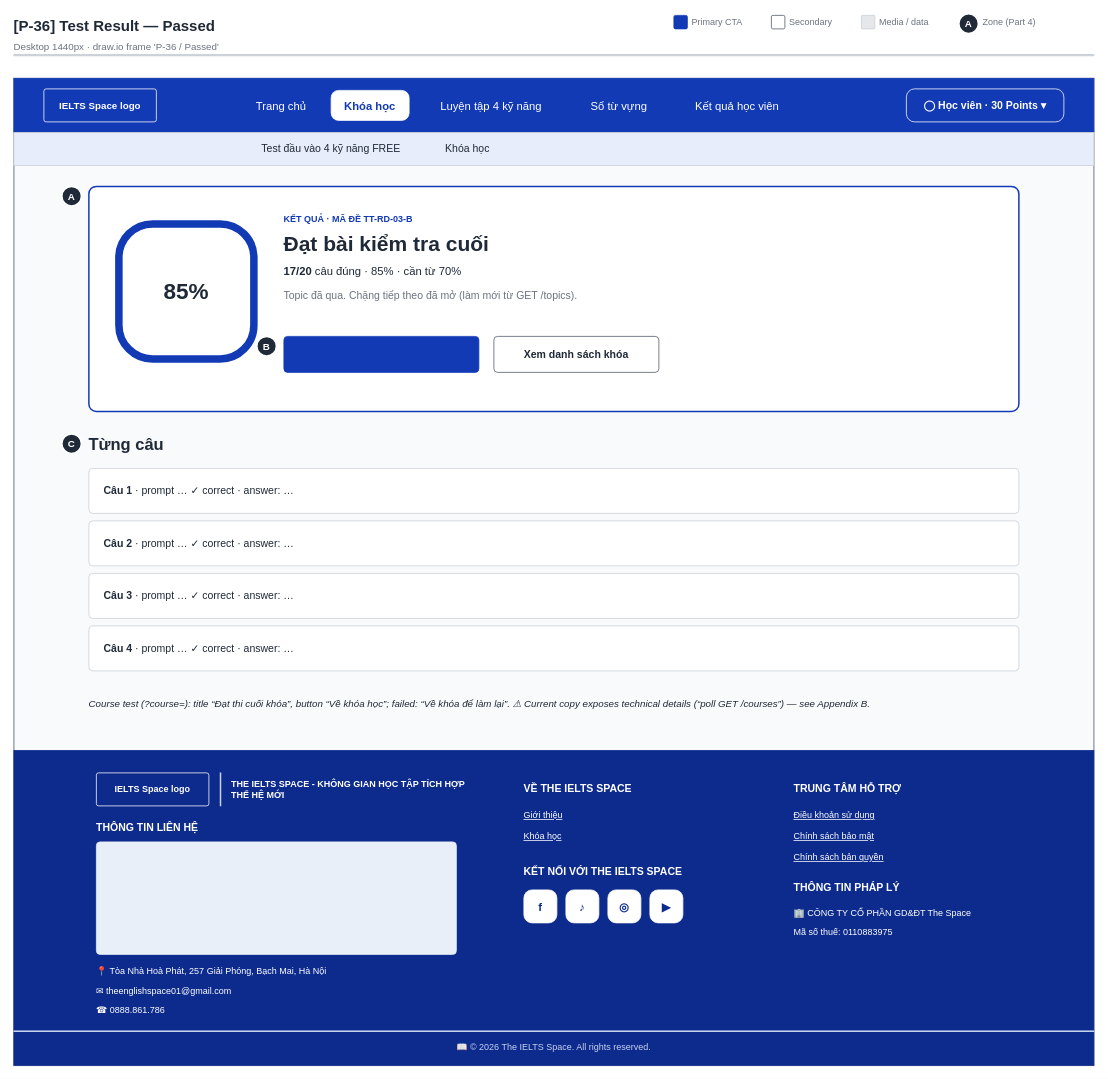
Image size: 1108x1079. Some labels were removed from this diagram. The box of each missing label's shape, as (x1, y1, x2, y2) in pixels:
🏆 Sang chặng tiếp theo →: (283, 336, 479, 372)
📍 The IELTS Space Mở trong Maps ↗: (96, 841, 456, 954)
